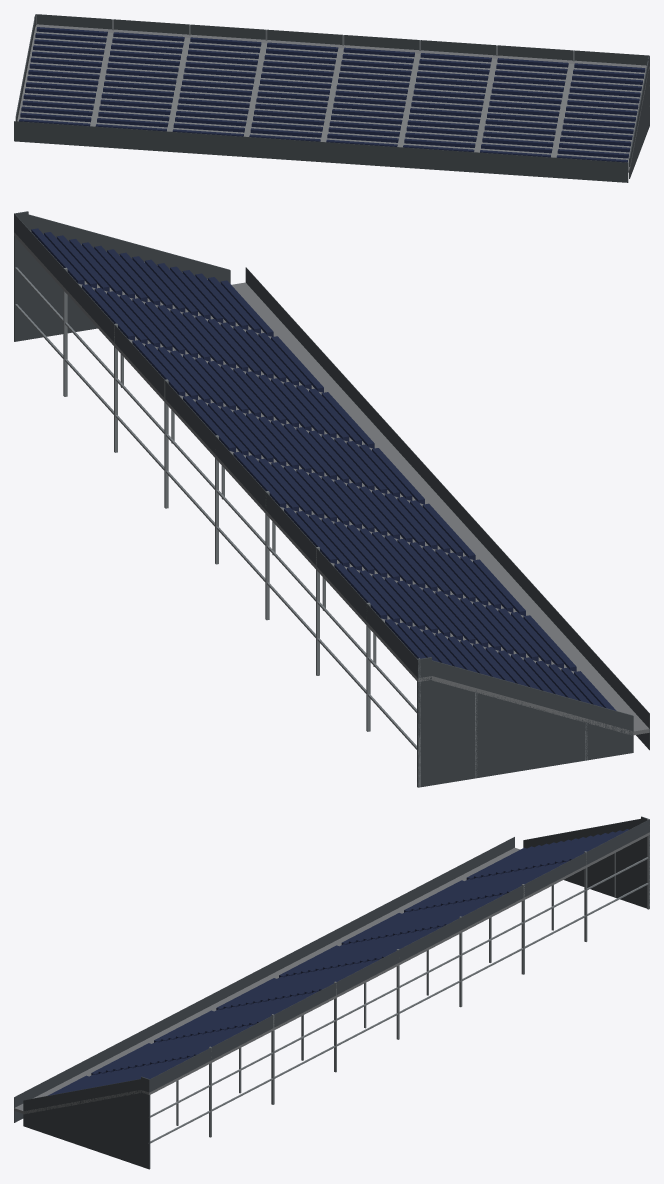
File: sil_stand_the_view.glb
3 renders of one model, top to bottom at view 1: azimuth 30°, elevation 25°; view 2: azimuth 150°, elevation 25°; view 3: azimuth 270°, elevation 25°, orthographic. The views are drawn at different scales.
Parts seen in each view (by area): view 1: silverstone-the-view; view 2: silverstone-the-view; view 3: silverstone-the-view.
Part boxes in pixels (x1=…): silverstone-the-view: x1=14, y1=14, x2=649, y2=182; silverstone-the-view: x1=14, y1=211, x2=649, y2=787; silverstone-the-view: x1=14, y1=816, x2=649, y2=1169.
Bounding box in the file's own units: 61.33 × 8.36 × 53.69.
